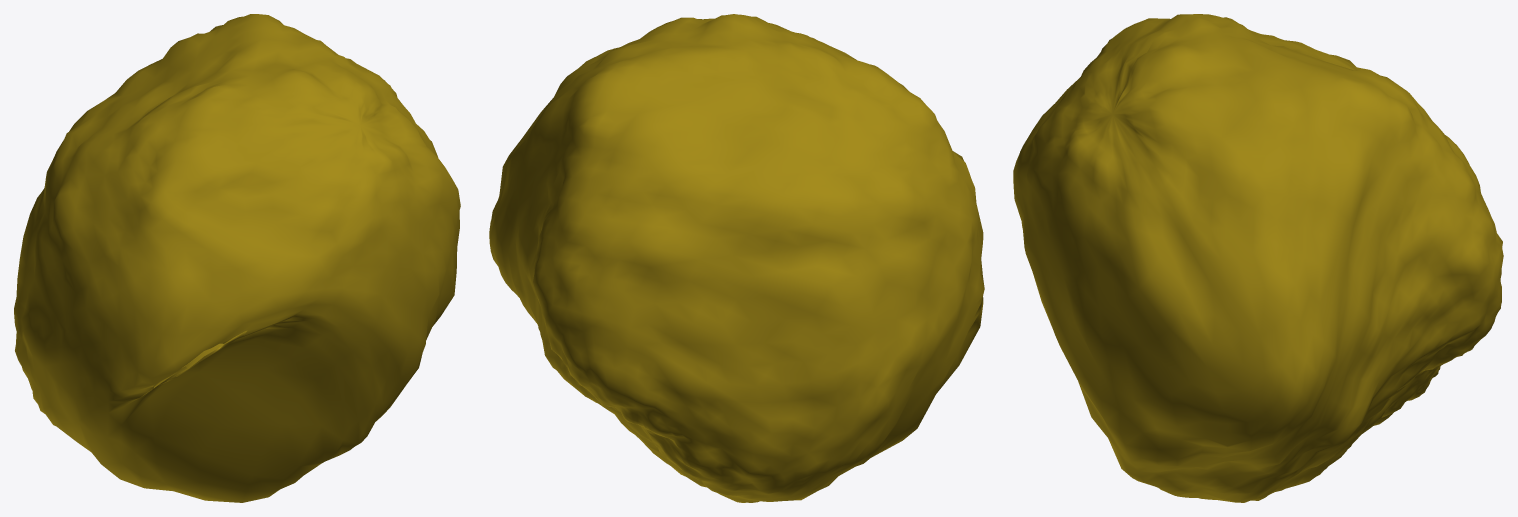
Rendered from asteroid2.fbx.
The picture shows the model from 3 angles, left to right: view 1: azimuth 30°, elevation 25°; view 2: azimuth 150°, elevation 25°; view 3: azimuth 270°, elevation 25°; orthographic projection. The views are drawn at different scales.
Parts seen in each view (by area): view 1: Sphere; view 2: Sphere; view 3: Sphere.
Boxes of the visible parts, x1,y1,x2,y2 form: Sphere: (14, 14, 460, 502); Sphere: (489, 14, 984, 502); Sphere: (1013, 14, 1503, 502).
Bounding box in the file's own units: 7.06 × 6.95 × 6.66.
